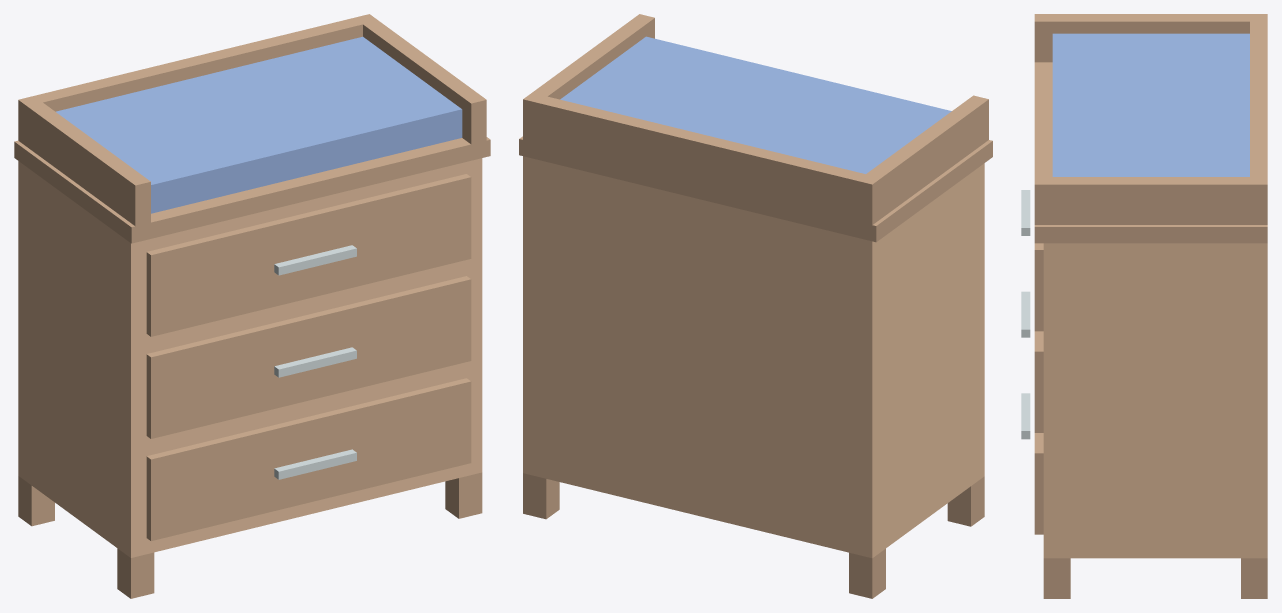
Rendered from changingDresser.glb.
3 views of the same model, side by side, from view 1: azimuth 30°, elevation 25°; view 2: azimuth 150°, elevation 25°; view 3: azimuth 270°, elevation 25° (orthographic).
Visible parts, largest first — view 1: changingDresser; view 2: changingDresser; view 3: changingDresser.
Part boxes in pixels (<box>): changingDresser: <box>14,14,490,598</box>; changingDresser: <box>519,14,992,598</box>; changingDresser: <box>1021,14,1267,598</box>.
Bounding box in the file's own units: 0.46 × 0.51 × 0.275.
